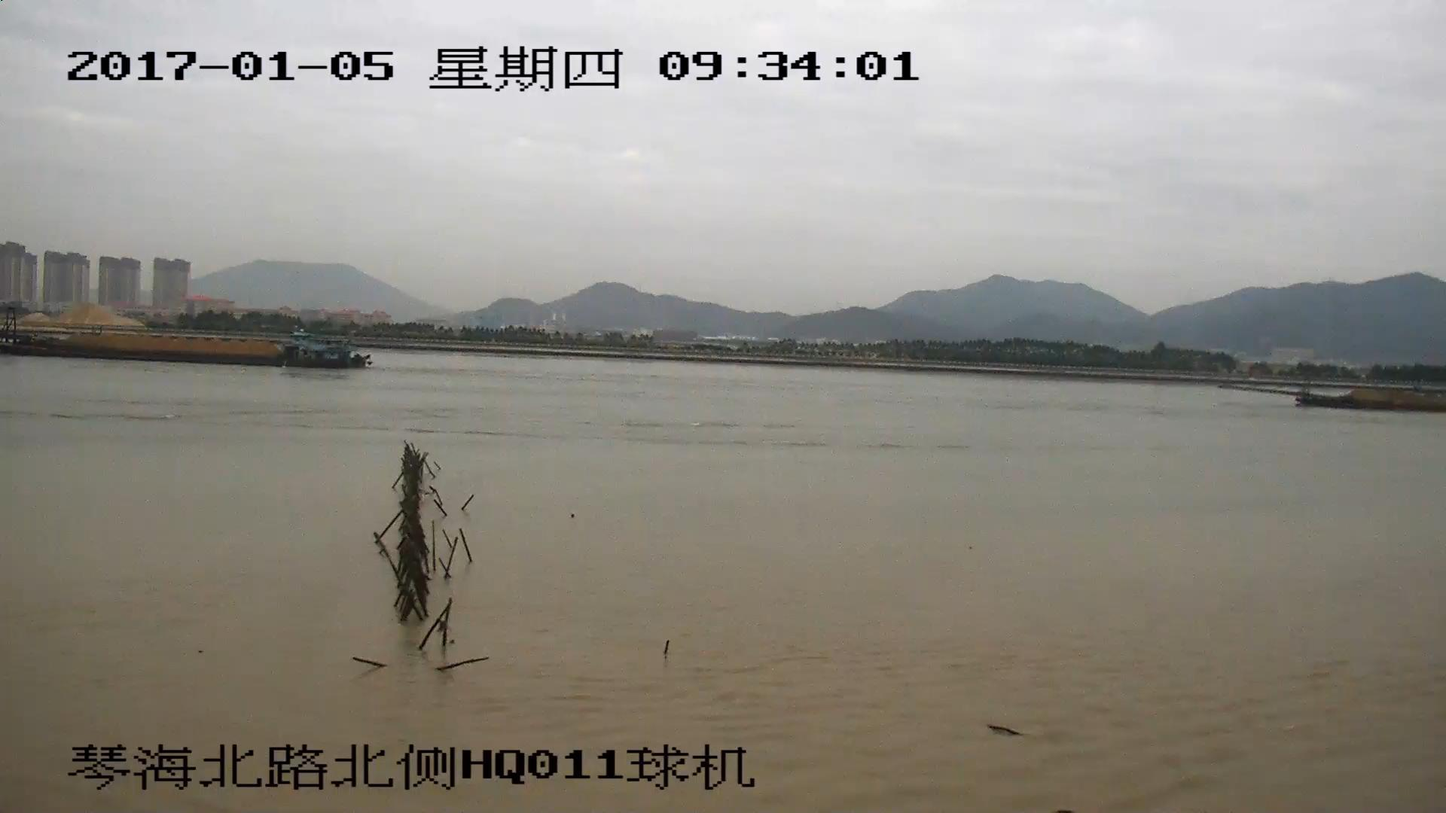ore carrier: (0, 329, 365, 368), (1222, 380, 1445, 411)
